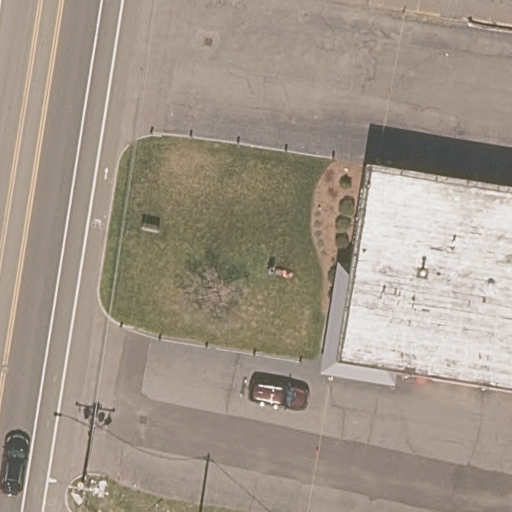DT: (65, 478, 110, 500)
